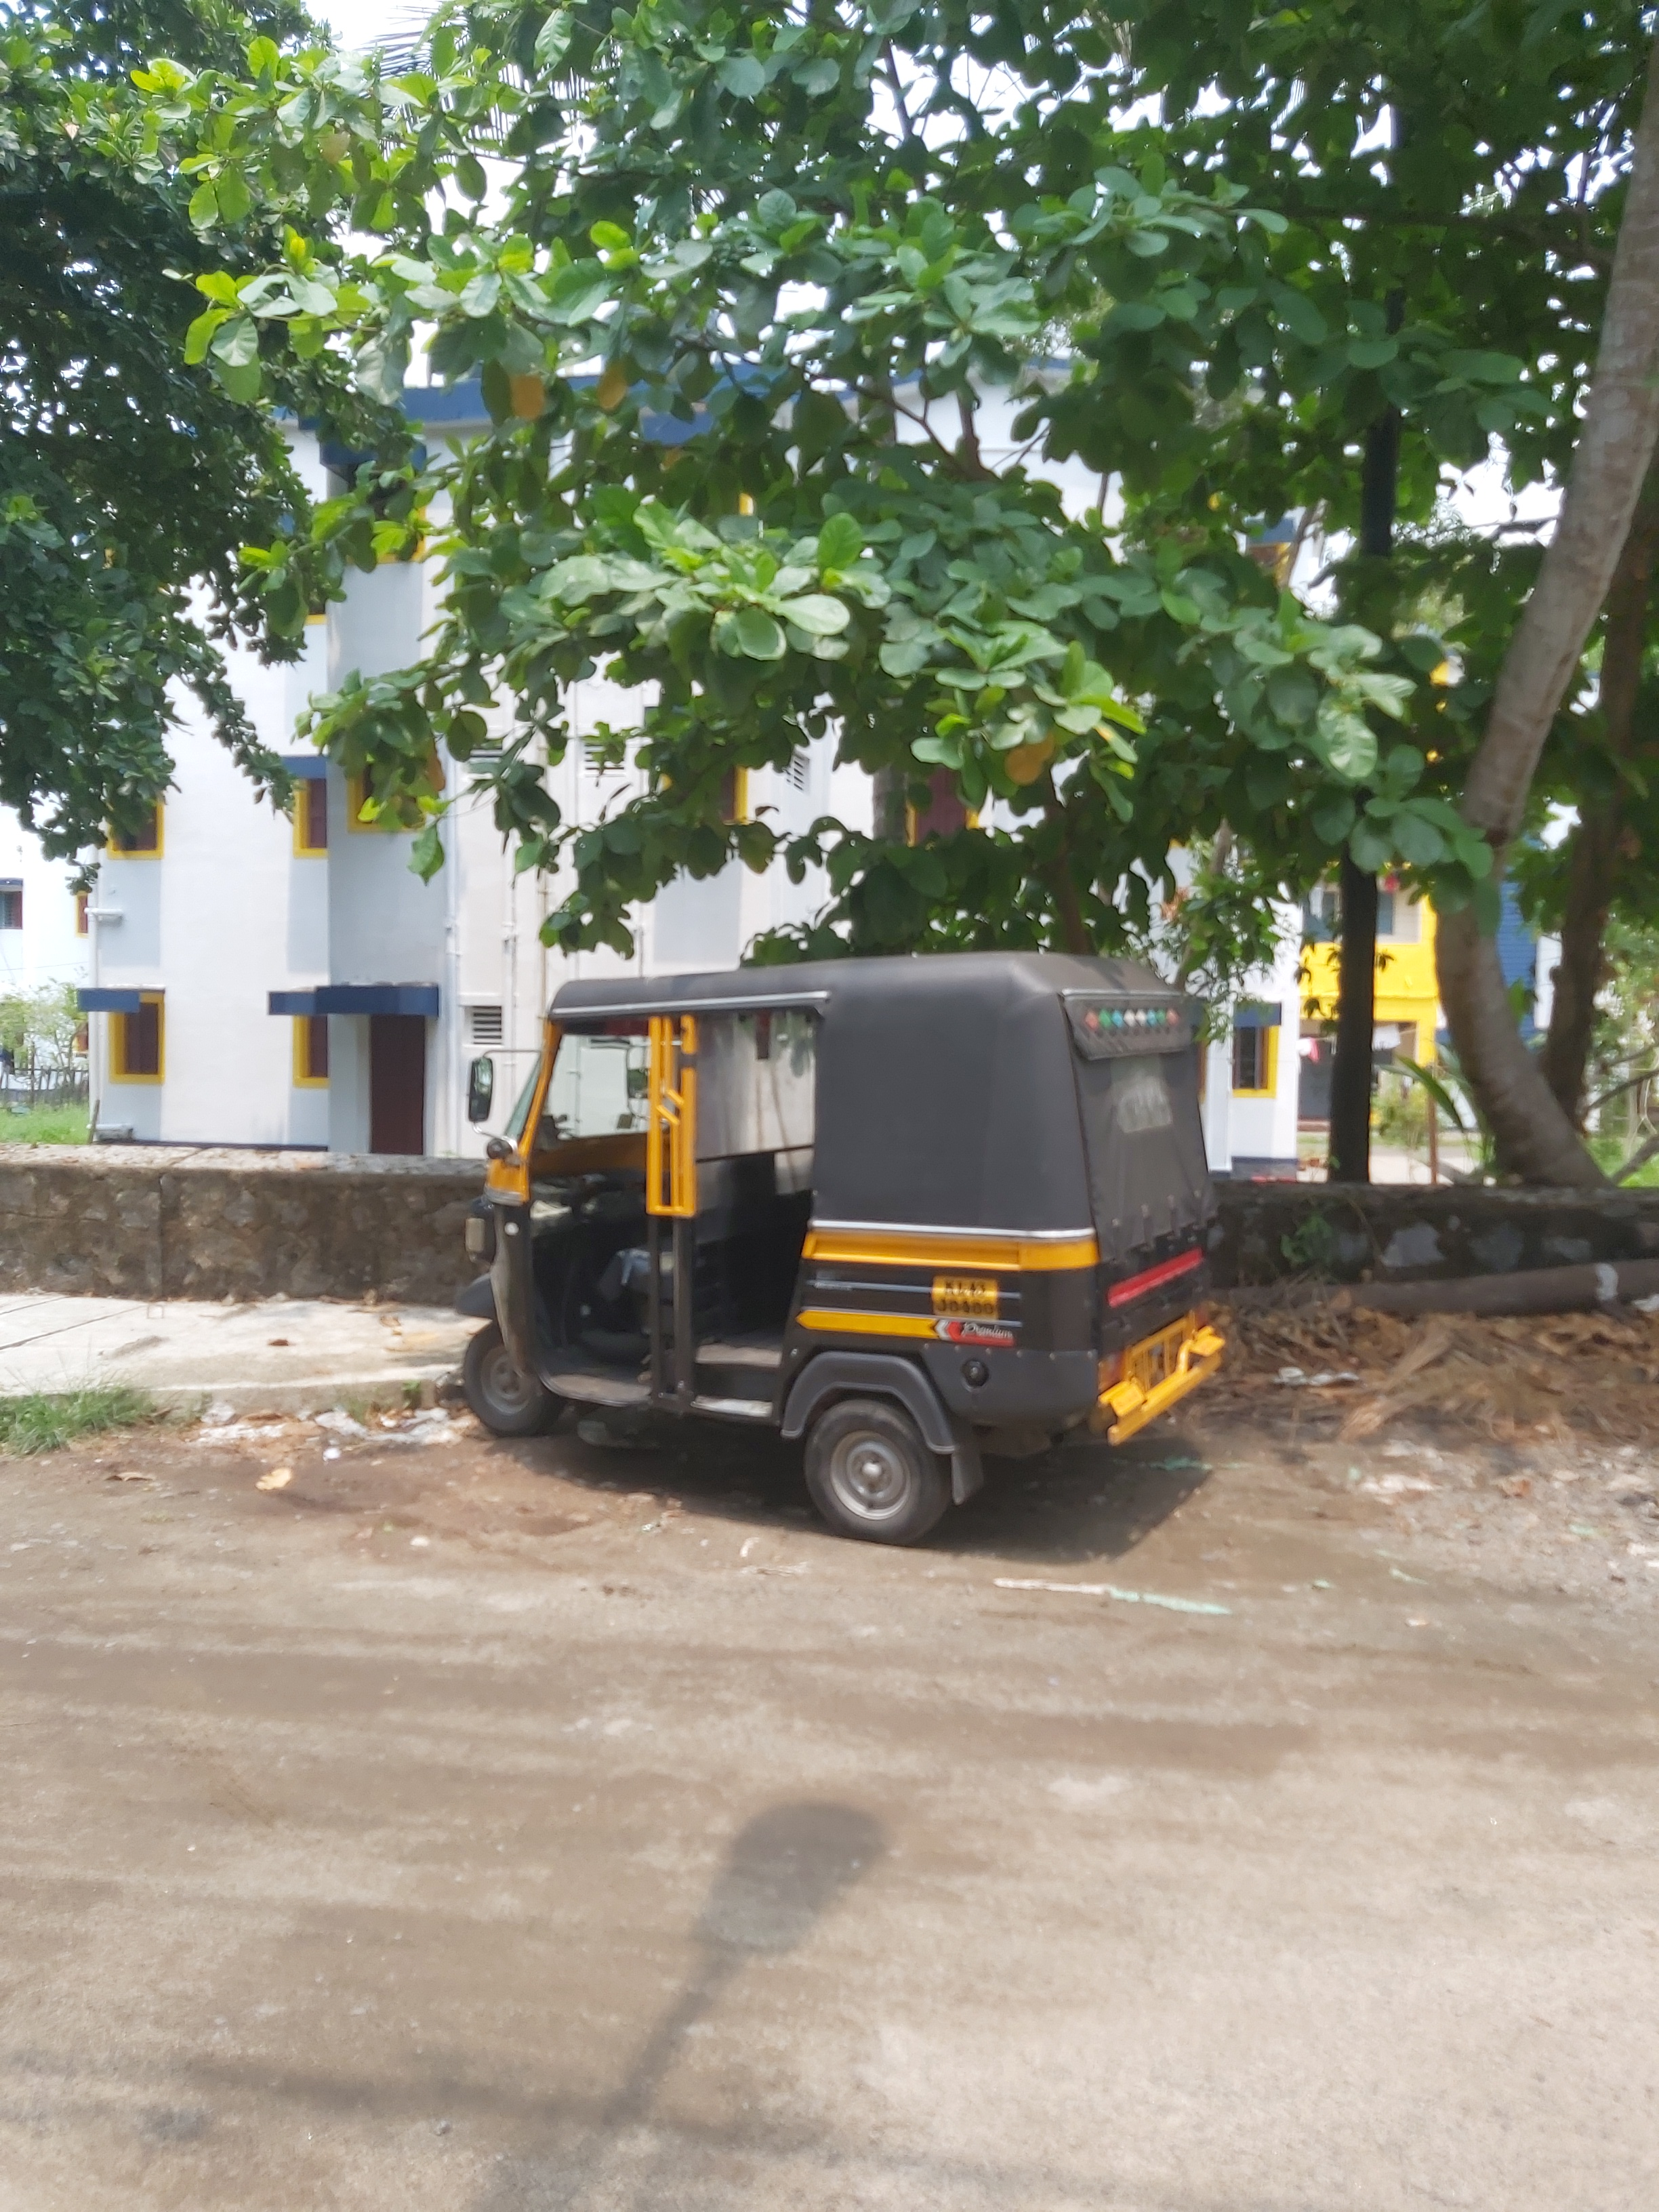auto: (455, 949, 1229, 1540)
